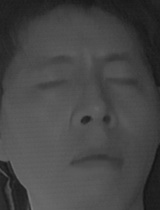blink: (31, 70, 71, 97), (103, 67, 142, 94)
mouth: (62, 139, 127, 180)
